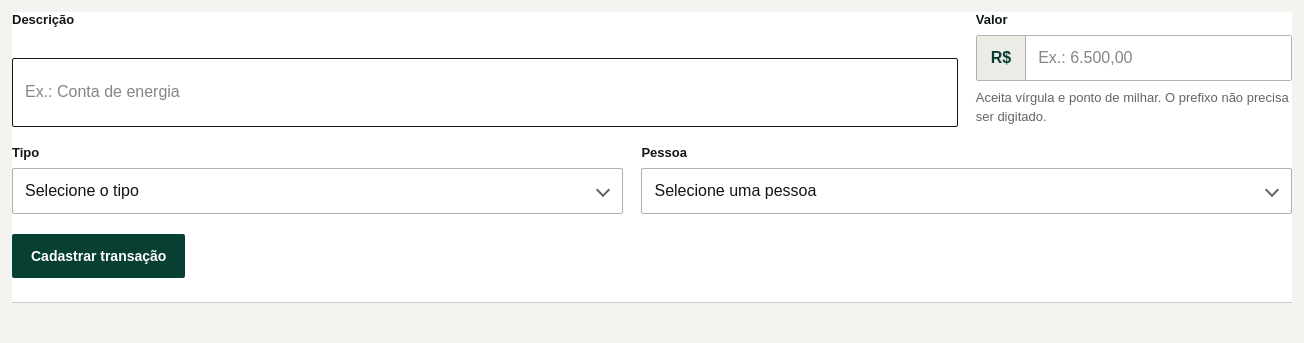
Test: TransactionForm › exige valor
The width and height of the screenshot is (1304, 343).
Type "Compra de supermercado" into the field labelled "Descrição" at (485, 92), box [12,58,958,127]
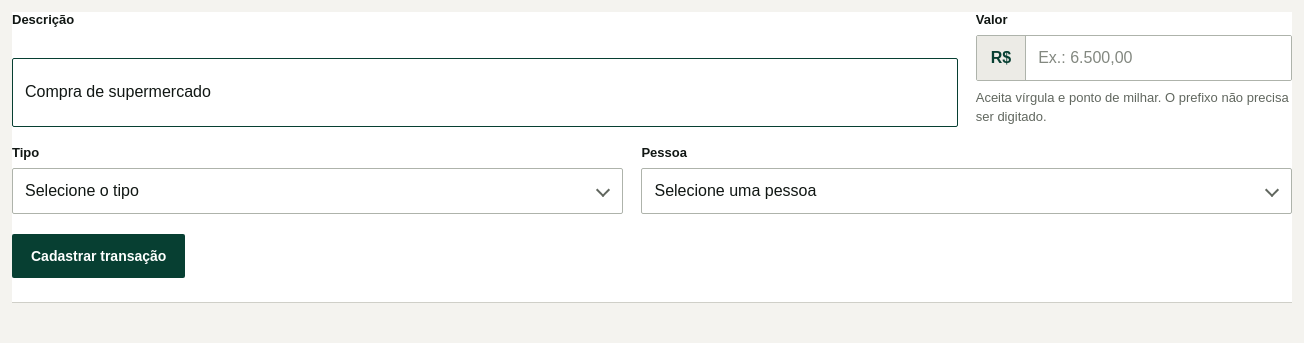
Select "Mariana Freitas - 28 anos" in the dropdown labelled "Pessoa" at (967, 191), box [642,168,1292,214]
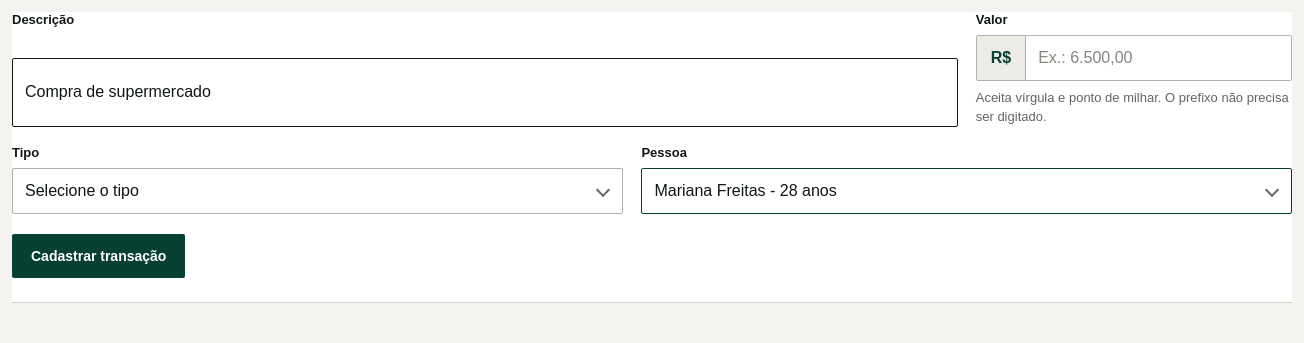
Select "Despesa" in the dropdown labelled "Tipo" at (318, 191), box [12,168,624,214]
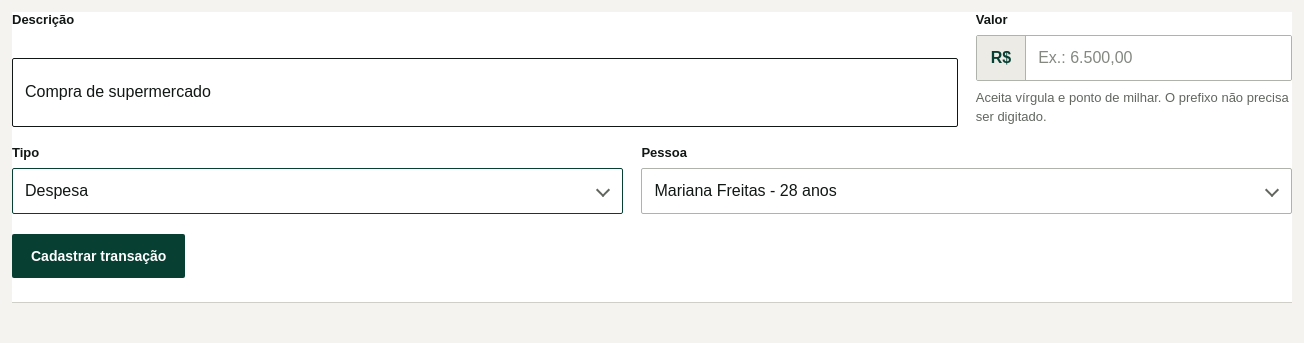
Click the button "Cadastrar transação" at (99, 256), box [12,234,185,278]
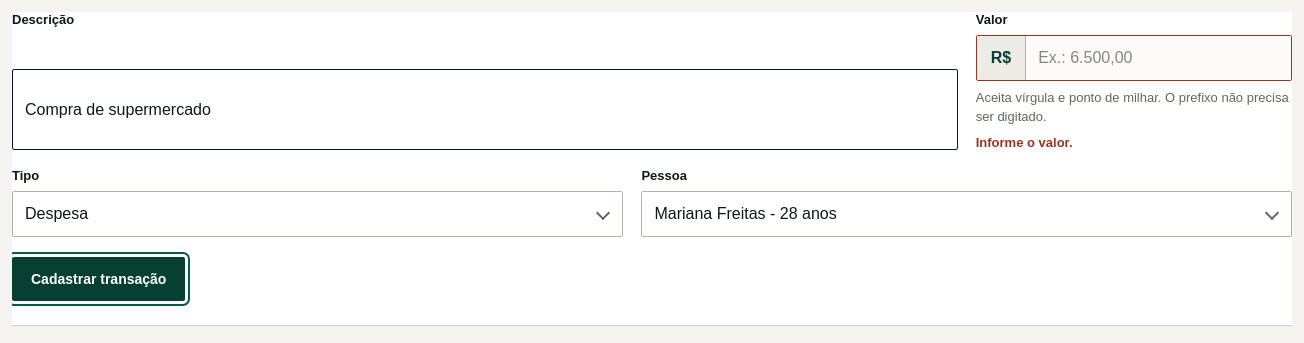
Expected: the text "Informe o valor." is shown, [976,135,1072,150]
